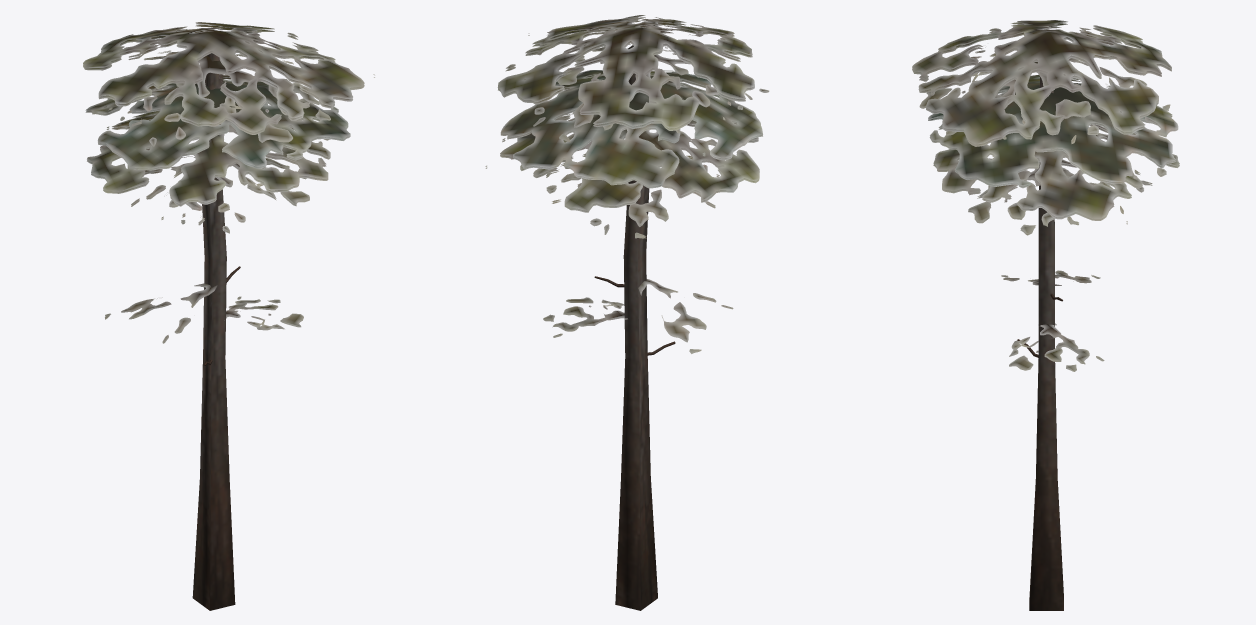
Rendered from bz_tree_02.fbx.
3 views of the same model, side by side, from view 1: azimuth 30°, elevation 25°; view 2: azimuth 150°, elevation 25°; view 3: azimuth 270°, elevation 25° (orthographic).
Parts seen in each view (by area): view 1: bz_tree_02; view 2: bz_tree_02; view 3: bz_tree_02.
Part boxes in pixels (bbox=[...]): bz_tree_02: bbox=[83, 22, 374, 610]; bz_tree_02: bbox=[485, 15, 769, 610]; bz_tree_02: bbox=[912, 20, 1179, 610].
Size of the model in its own units: 3.75 by 6.2 by 3.73.
